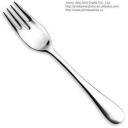Fork: (3, 1, 126, 125)
